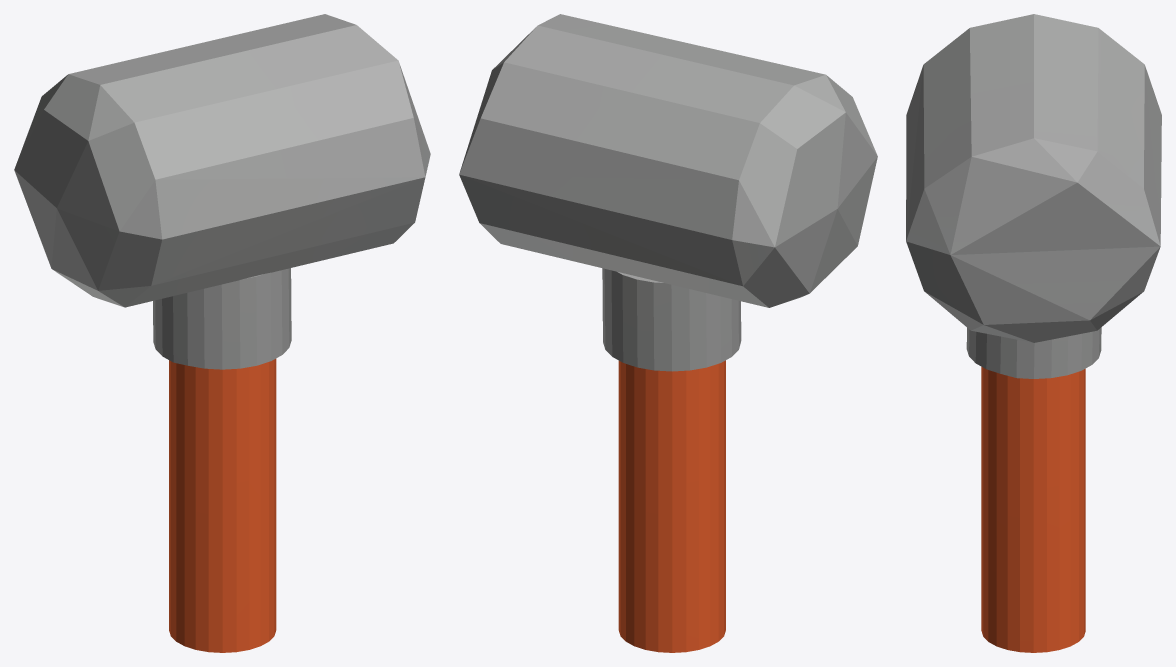
Rendered from Martelo.fbx.
3 renders of one model, left to right at view 1: azimuth 30°, elevation 25°; view 2: azimuth 150°, elevation 25°; view 3: azimuth 270°, elevation 25°, orthographic. The views are drawn at different scales.
Parts seen in each view (by area): view 1: Martelo; view 2: Martelo; view 3: Martelo.
Boxes of the visible parts, x1,y1,x2,y2 form: Martelo: (14,14,430,652); Martelo: (459,14,877,652); Martelo: (906,14,1161,652).
Size of the model in its own units: 131 by 217 by 89.9.
1 material, 1 textured.
